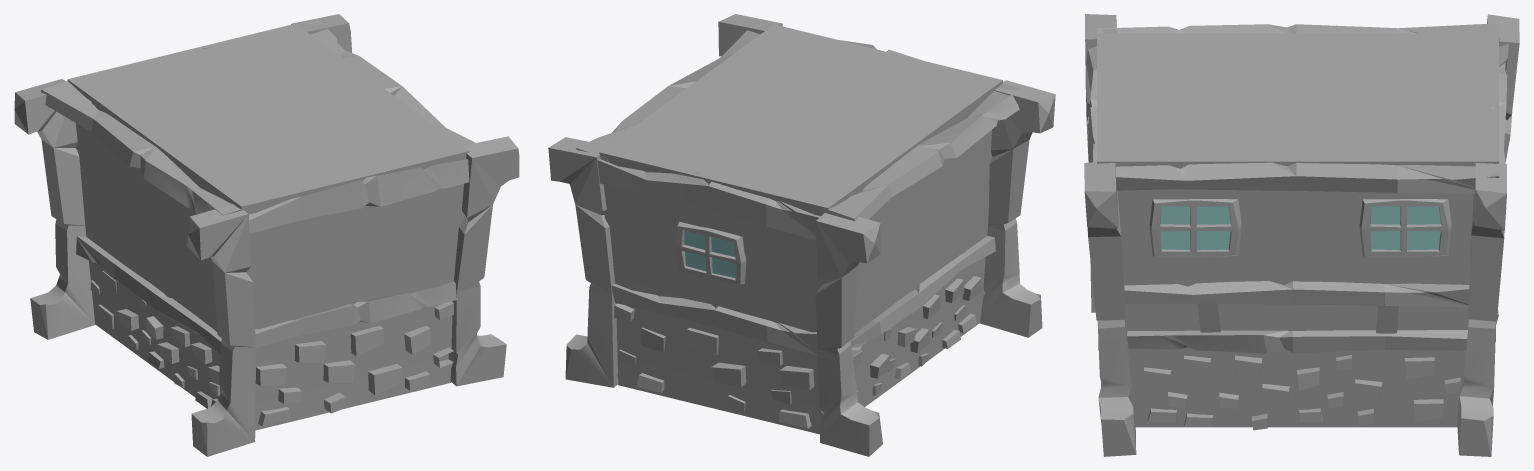
The model's file is SM_L_Modular_Homebase_1.fbx.
3 views of the same model, side by side, from view 1: azimuth 30°, elevation 25°; view 2: azimuth 150°, elevation 25°; view 3: azimuth 270°, elevation 25° (orthographic). The views are drawn at different scales.
Parts seen in each view (by area): view 1: SM_L_Modular_HomeBase1; view 2: SM_L_Modular_HomeBase1; view 3: SM_L_Modular_HomeBase1.
Boxes of the visible parts, <box> form: SM_L_Modular_HomeBase1: <box>14,14,519,456</box>; SM_L_Modular_HomeBase1: <box>548,14,1055,456</box>; SM_L_Modular_HomeBase1: <box>1084,14,1519,456</box>.
Bounding box in the file's own units: 4.34 × 3.07 × 4.33.
